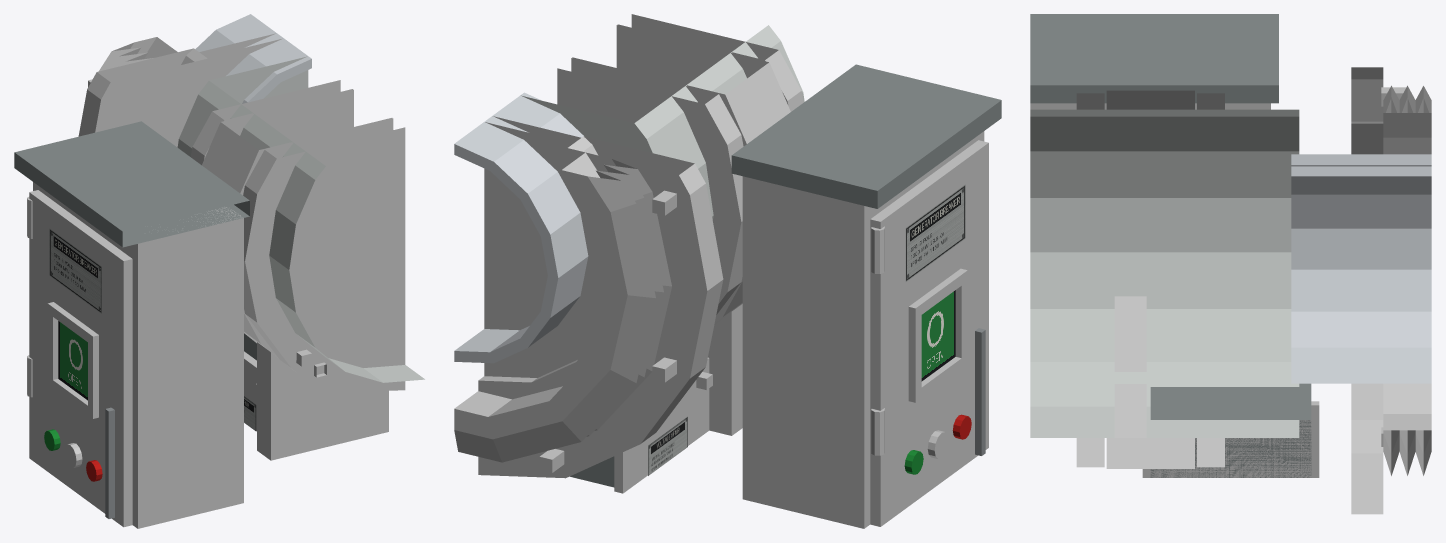
Rendered from cell_24.obj.
3 renders of one model, left to right at view 1: azimuth 30°, elevation 25°; view 2: azimuth 150°, elevation 25°; view 3: azimuth 270°, elevation 25°, orthographic. The views are drawn at different scales.
Bounding box in the file's own units: 1 × 1 × 1.
